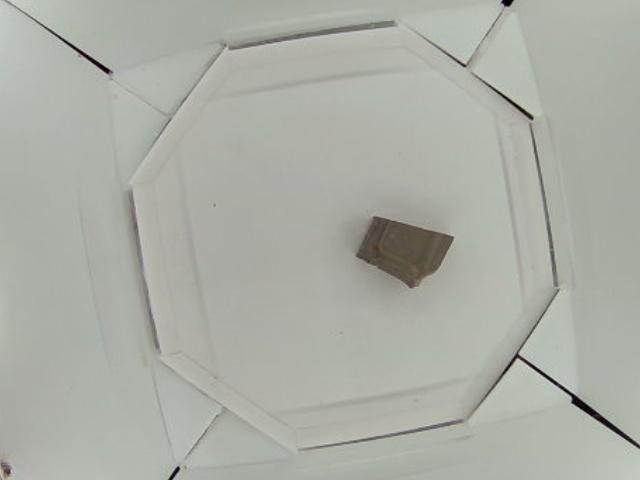China: (355, 215, 456, 292)
